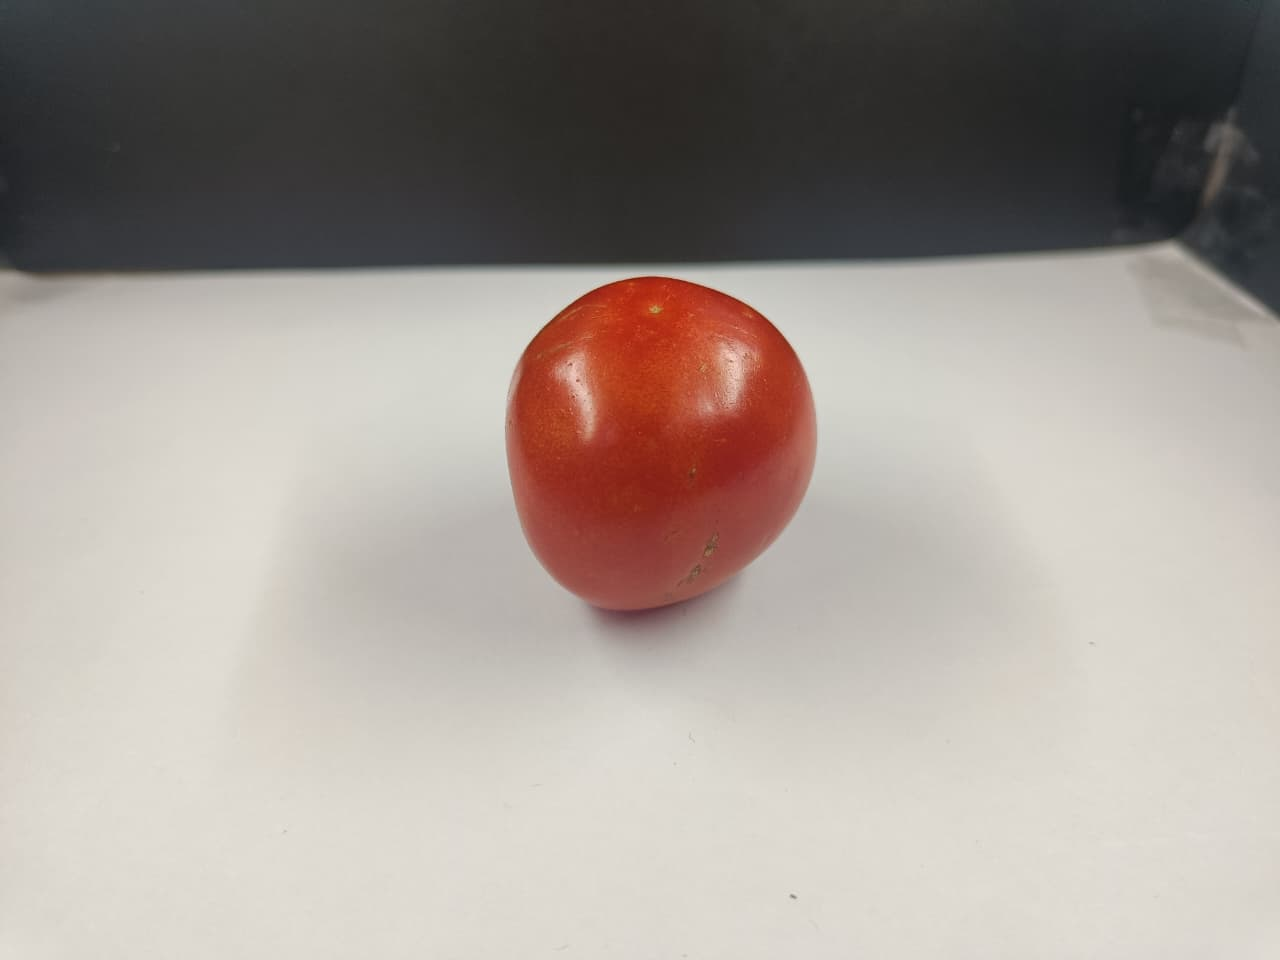ripe: (475, 272, 821, 627)
